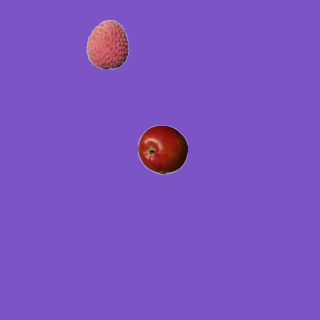Apple Braeburn: (137, 124, 187, 174)
Lychee: (82, 19, 132, 69)
